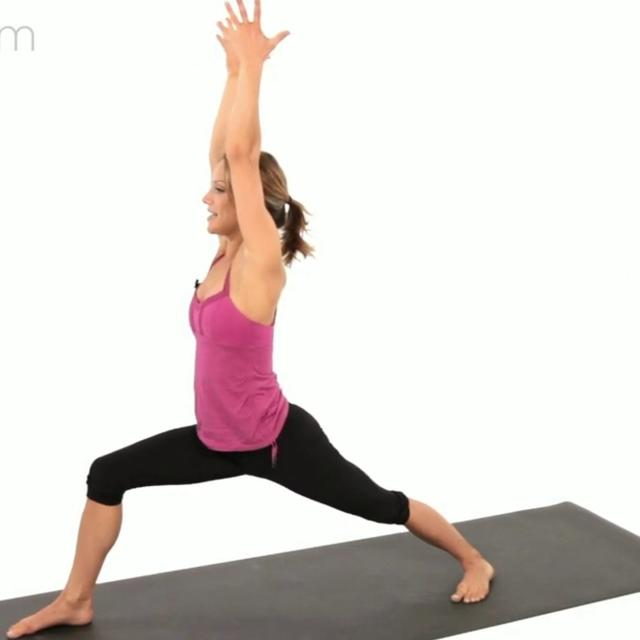Warrior_I: (4, 1, 499, 635)
